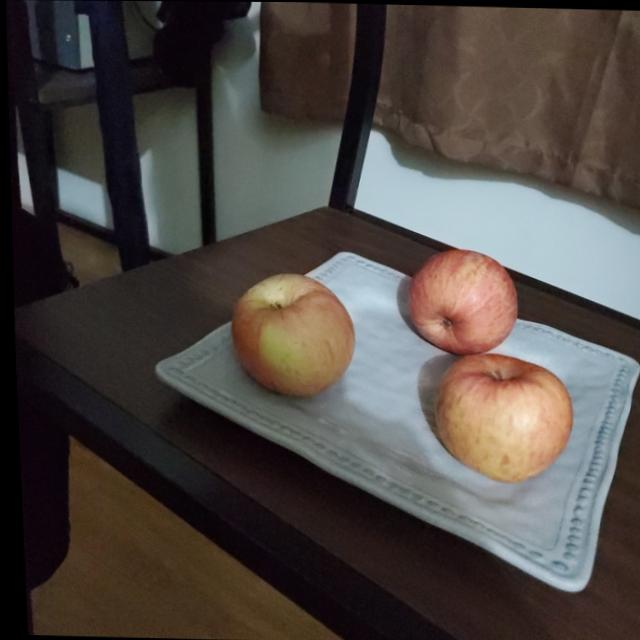apple: (426, 348, 576, 486), (227, 275, 355, 399), (397, 246, 517, 354)
